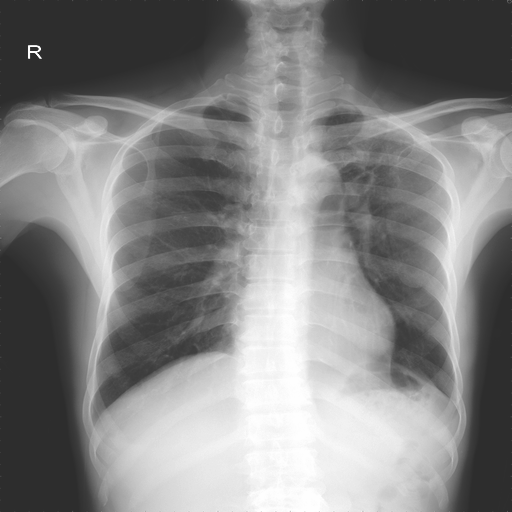Calcification: (441, 387, 460, 417)
Consolidation: (292, 159, 346, 216)
ILD: (361, 112, 418, 186)
Pleural effusion: (441, 387, 460, 417)
Pneumothorax: (361, 112, 418, 186), (354, 141, 393, 195), (139, 226, 190, 264)
